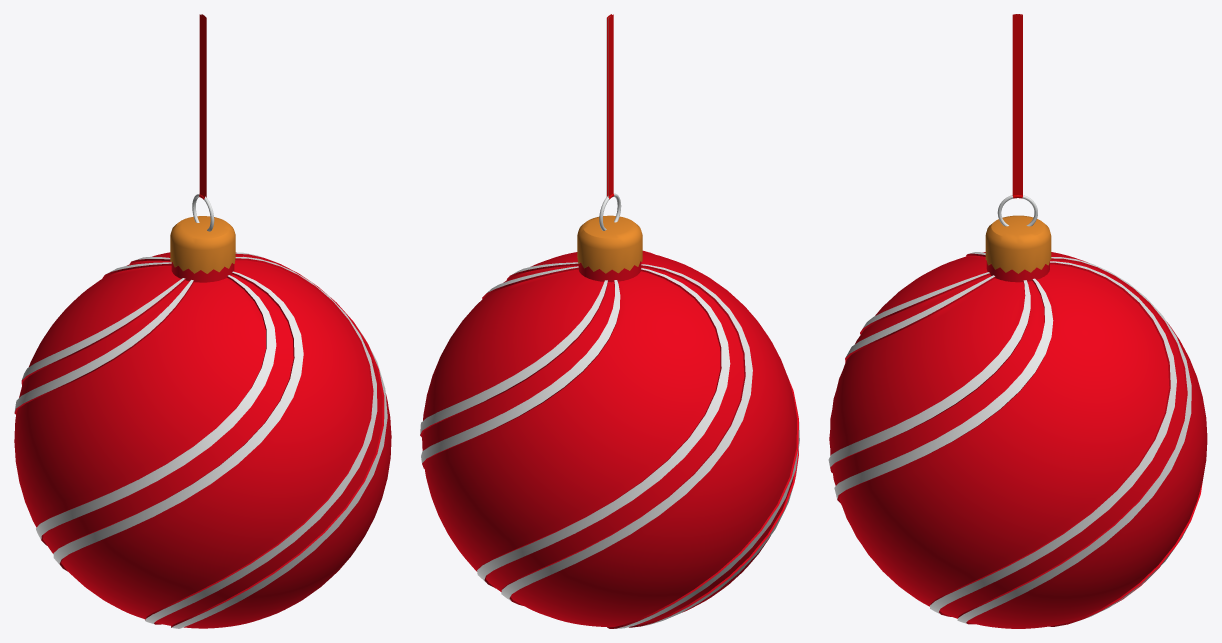
Rendered from ballA.fbx.
3 renders of one model, left to right at view 1: azimuth 30°, elevation 25°; view 2: azimuth 150°, elevation 25°; view 3: azimuth 270°, elevation 25°, orthographic.
Parts seen in each view (by area): view 1: ballA; view 2: ballA; view 3: ballA.
Part boxes in pixels (x1=…): ballA: x1=14, y1=14, x2=391, y2=628; ballA: x1=420, y1=14, x2=799, y2=628; ballA: x1=828, y1=14, x2=1207, y2=628.
Size of the model in its own units: 0.0959 by 0.1673 by 0.0961.
